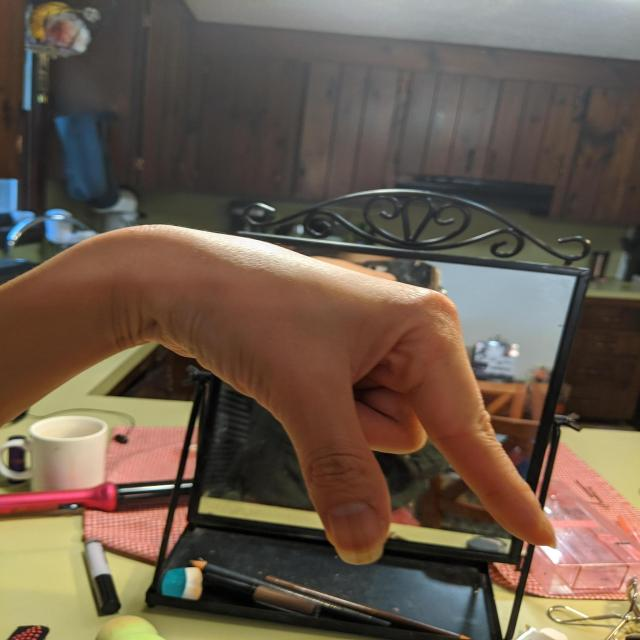Q: (142, 218, 564, 570)
